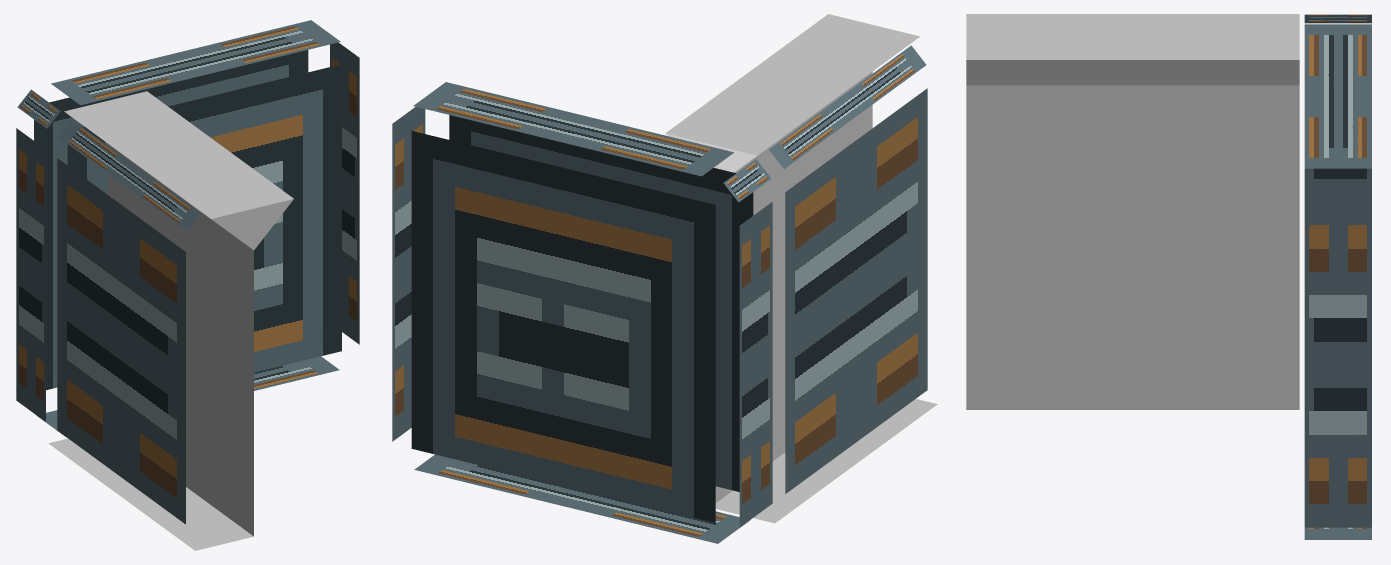
The model's file is casing_d7_front_x-3_y1.obj.
The picture shows the model from 3 angles, left to right: view 1: azimuth 30°, elevation 25°; view 2: azimuth 150°, elevation 25°; view 3: azimuth 270°, elevation 25°; orthographic projection. The views are drawn at different scales.
Visible parts, largest first — view 1: d7_front_x-3_y1; view 2: d7_front_x-3_y1; view 3: d7_front_x-3_y1.
Boxes of the visible parts, left/top/right/bottom form: d7_front_x-3_y1: left=16, top=20, right=359, bottom=550; d7_front_x-3_y1: left=392, top=14, right=937, bottom=543; d7_front_x-3_y1: left=966, top=14, right=1371, bottom=539.
Size of the model in its own units: 1 by 1 by 1.
